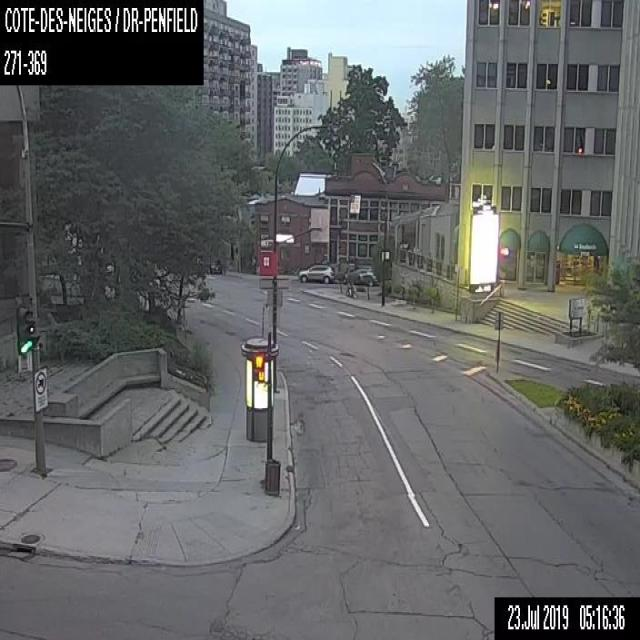vehicle: (297, 262, 335, 282), (345, 266, 377, 286), (206, 260, 222, 274)
